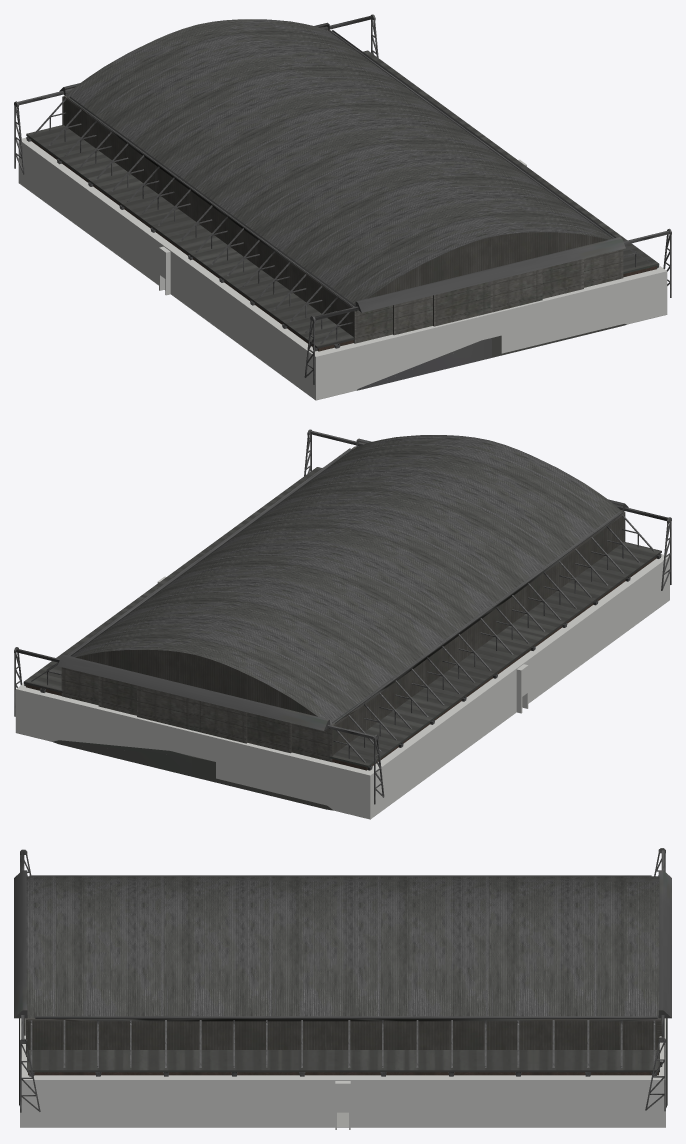
Rendered from hangar-j.zfix-v14.lod0.glb.
The picture shows the model from 3 angles, top to bottom: view 1: azimuth 30°, elevation 25°; view 2: azimuth 150°, elevation 25°; view 3: azimuth 270°, elevation 25°; orthographic projection. The views are drawn at different scales.
Visible parts, largest first — view 1: Object_2, Walkable floors and stairs; view 2: Object_2, Walkable floors and stairs; view 3: Object_2, Walkable floors and stairs (×2).
Boxes of the visible parts, left/top/right/bottom form: Object_2: left=14, top=14, right=671, bottom=390; Walkable floors and stairs: left=18, top=137, right=667, bottom=399; Object_2: left=14, top=429, right=671, bottom=810; Walkable floors and stairs: left=15, top=554, right=669, bottom=818; Object_2: left=14, top=848, right=671, bottom=1112; Walkable floors and stairs (×2): left=20, top=1018, right=665, bottom=1129.
Size of the model in its own units: 61.89 by 19.3 by 89.88.
Materials: 3 (1 with a texture image).
